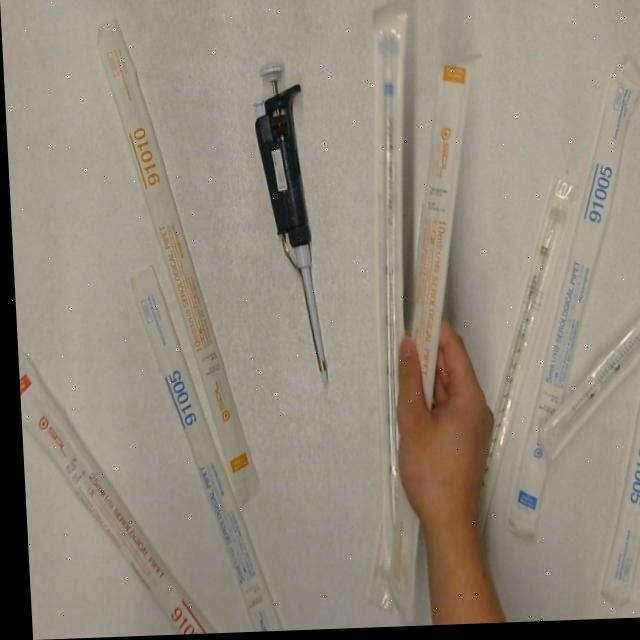Serelogical Pipet 10 mL - Sealed: (95, 15, 264, 512), (359, 51, 503, 624)
Serelogical Pipet 2 mL - Sealed: (449, 172, 593, 551)
Serelogical Pipet 25 mL - Sealed: (15, 339, 210, 640)
Serelogical Pipet 5 mL - Sealed: (481, 61, 640, 545), (122, 259, 276, 637), (357, 3, 434, 536), (526, 302, 640, 468), (581, 343, 640, 611)
Single Channel Pipettor: (238, 50, 341, 395)
